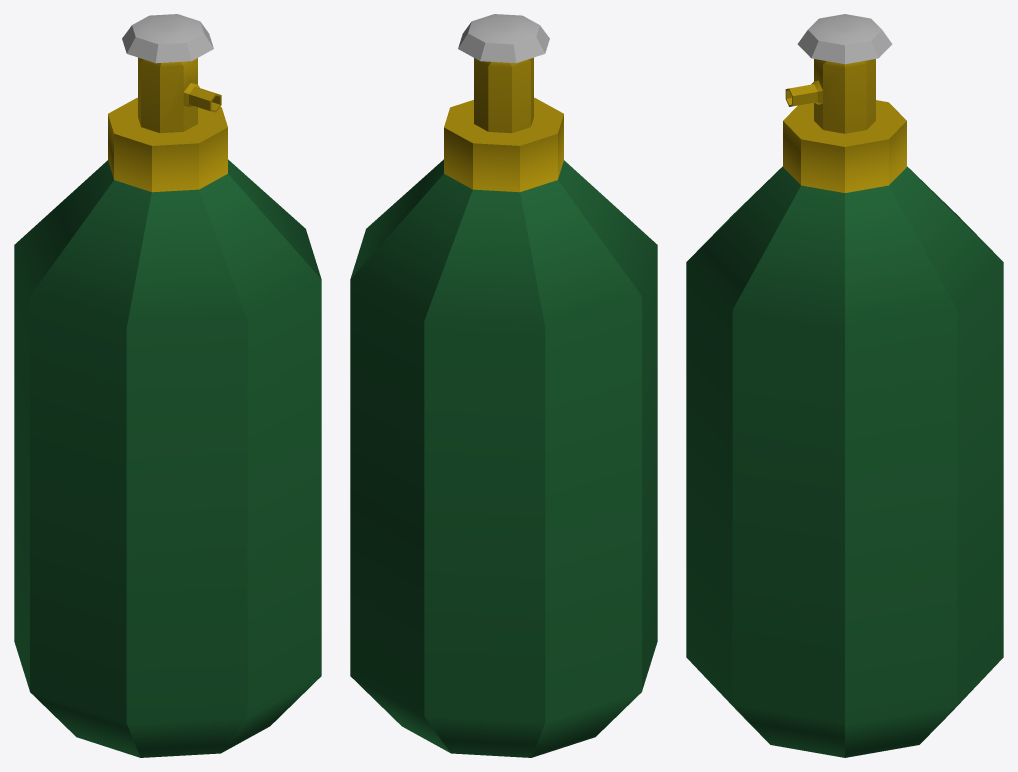
Rendered from OxyTank.fbx.
3 renders of one model, left to right at view 1: azimuth 30°, elevation 25°; view 2: azimuth 150°, elevation 25°; view 3: azimuth 270°, elevation 25°, orthographic.
Parts seen in each view (by area): view 1: Tank; view 2: Tank; view 3: Tank.
Boxes of the visible parts, bbox=[...] form: Tank: bbox=[14, 14, 321, 757]; Tank: bbox=[350, 14, 657, 757]; Tank: bbox=[686, 14, 1003, 757].
Size of the model in its own units: 3.64 by 8.7 by 3.64.
